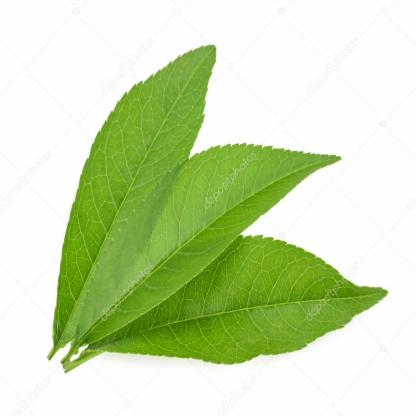Peach leaf: (42, 136, 343, 340), (45, 34, 222, 350), (52, 228, 395, 386)
